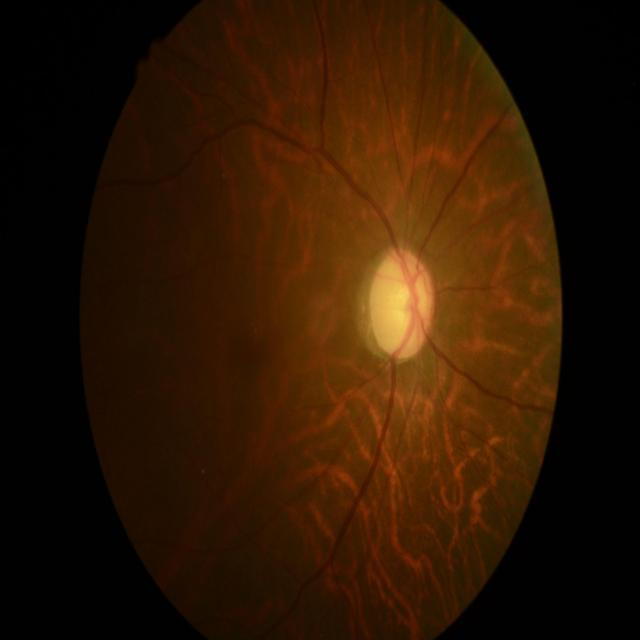cup: (378, 261, 426, 349)
disk: (369, 248, 437, 359)
